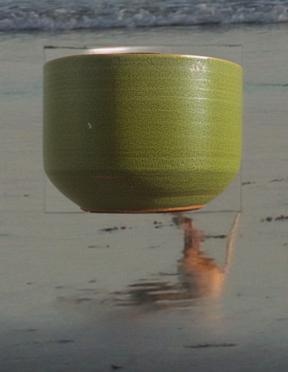pottedplant: (43, 45, 242, 213)
